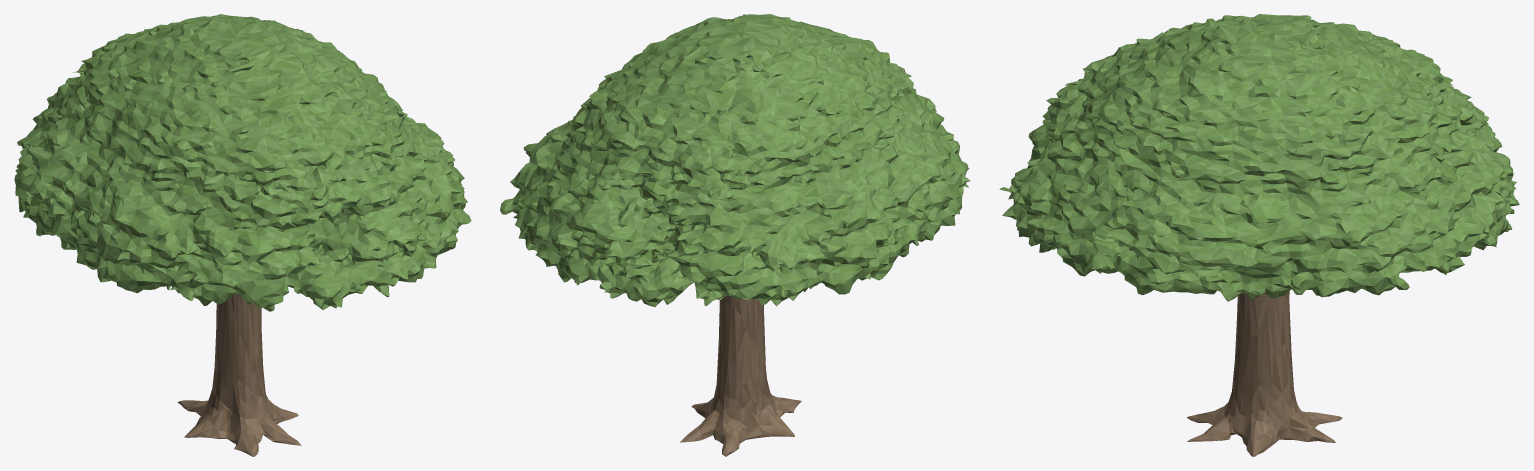
Rendered from beech_tree.glb.
3 renders of one model, left to right at view 1: azimuth 30°, elevation 25°; view 2: azimuth 150°, elevation 25°; view 3: azimuth 270°, elevation 25°, orthographic. The views are drawn at different scales.
Visible parts, largest first — view 1: world; view 2: world; view 3: world.
Part boxes in pixels (bbox=[...]): world: bbox=[14, 14, 471, 456]; world: bbox=[500, 14, 970, 456]; world: bbox=[999, 14, 1519, 456].
Bounding box in the file's own units: 4.37 × 4.5 × 5.3.
